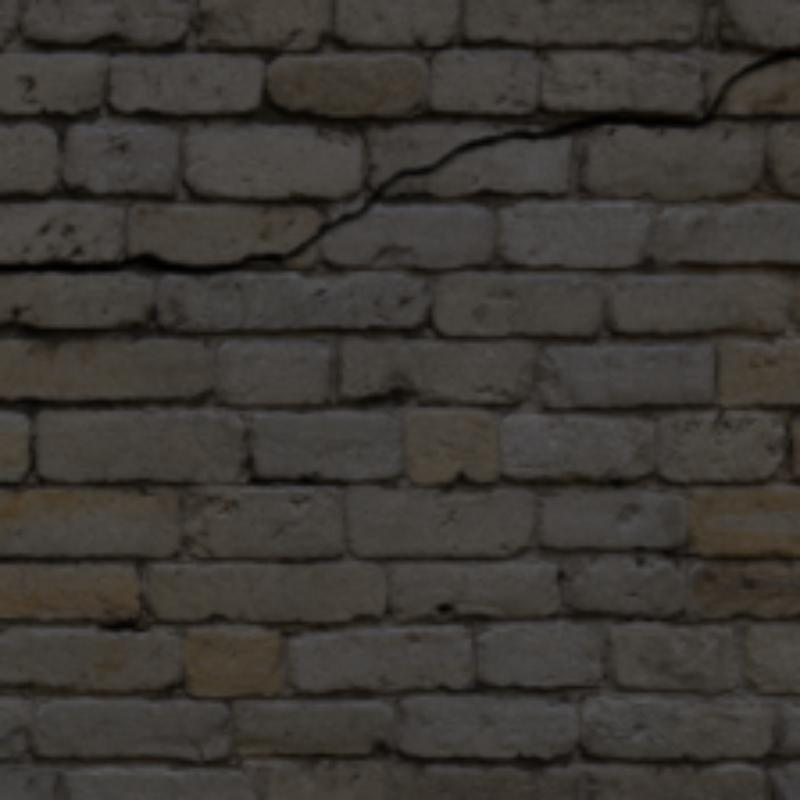pothole: (0, 50, 796, 271)
